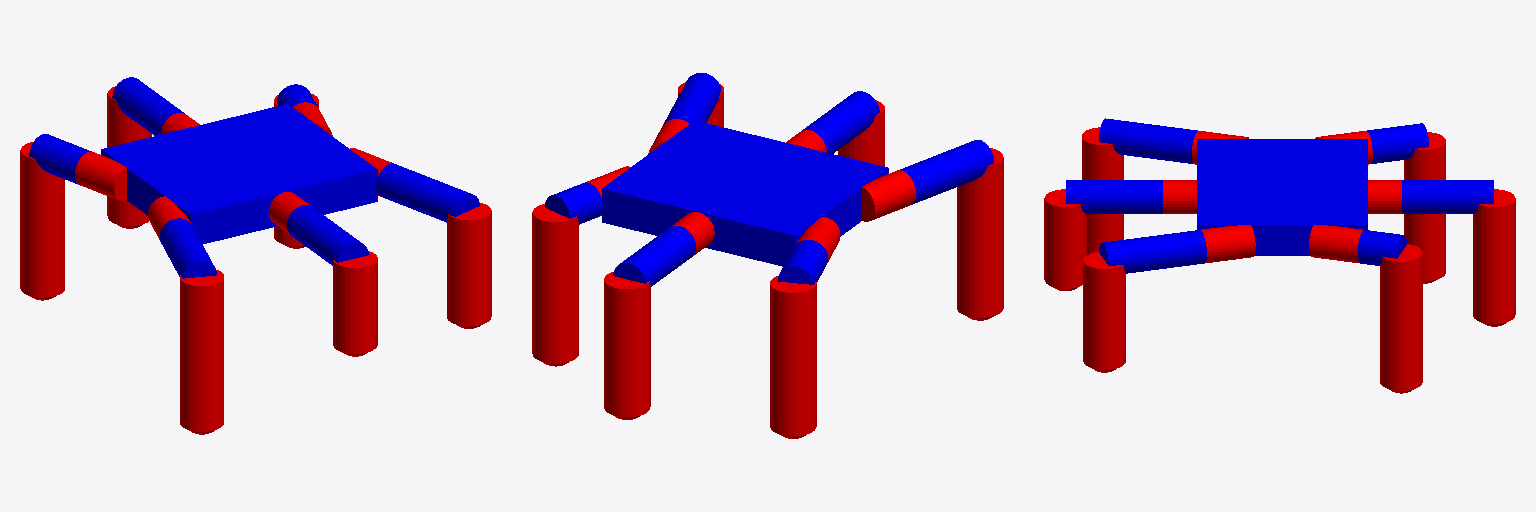
--- Facts derived from the render (not from the file) ---
3 views of the same robot in one strip: view 1: azimuth 30°, elevation 25°; view 2: azimuth 150°, elevation 25°; view 3: azimuth 270°, elevation 25° (orthographic).
Model pexod with 19 links and 18 joints (18 revolute), rooted at base_link, posed every joint at zero.
Visible links, largest first — view 1: base_link, leg_5_3, leg_0_3, leg_3_3, leg_4_3, leg_3_2, leg_4_2, leg_5_2, leg_1_3, leg_1_2, leg_0_1, leg_0_2 (+3 smaller); view 2: base_link, leg_0_3, leg_2_3, leg_5_3, leg_1_3, leg_5_2, leg_1_2, leg_4_2, leg_5_1, leg_3_2, leg_0_2, leg_2_2 (+3 smaller); view 3: base_link, leg_2_3, leg_1_3, leg_3_3, leg_4_3, leg_0_3, leg_3_2, leg_4_2, leg_5_2, leg_1_2, leg_5_3, leg_0_2 (+5 smaller).
Link boxes in pixels (x1,y1,x2,y2): base_link: (101, 104, 377, 243); leg_5_3: (180, 270, 223, 434); leg_0_3: (20, 142, 64, 300); leg_3_3: (447, 202, 491, 328); leg_4_3: (333, 251, 377, 356); leg_3_2: (376, 163, 479, 222); leg_4_2: (287, 205, 368, 265); leg_5_2: (160, 218, 216, 278); leg_1_3: (107, 86, 151, 228); leg_1_2: (112, 77, 184, 135); leg_0_1: (75, 152, 126, 200); leg_0_2: (29, 134, 91, 184); base_link: (602, 121, 888, 266); leg_0_3: (770, 276, 816, 438); leg_2_3: (532, 204, 578, 366); leg_5_3: (957, 148, 1003, 320); leg_1_3: (604, 272, 650, 419); leg_5_2: (897, 140, 993, 204); leg_1_2: (613, 226, 695, 286); leg_4_2: (802, 91, 879, 153); leg_5_1: (862, 170, 915, 221); leg_3_2: (663, 73, 720, 124); leg_0_2: (777, 240, 827, 284); leg_2_2: (545, 182, 602, 224); base_link: (1197, 139, 1367, 255); leg_2_3: (1380, 244, 1422, 393); leg_1_3: (1473, 189, 1515, 326); leg_3_3: (1083, 252, 1125, 372); leg_4_3: (1044, 189, 1086, 290); leg_0_3: (1404, 132, 1445, 283); leg_3_2: (1099, 230, 1206, 273); leg_4_2: (1066, 180, 1162, 213); leg_5_2: (1099, 118, 1197, 163); leg_1_2: (1402, 180, 1493, 213); leg_5_3: (1082, 127, 1123, 254); leg_0_2: (1367, 123, 1428, 163).
Size in the robot's own frame: 0.3946 by 0.5527 by 0.2116 metres.
Geometry: primitives only (box / cylinder / sphere), no mesh files.

The robot description file, URDF, robot "pexod":
<?xml version="1.0" ?>
<!-- =================================================================================== -->
<!-- |    This document was autogenerated by xacro from pexod.xacro                    | -->
<!-- |    EDITING THIS FILE BY HAND IS NOT RECOMMENDED                                 | -->
<!-- =================================================================================== -->
<robot name="pexod" xmlns:xacro="http://www.ros.org/wiki/xacro">
  <!-- <xacro:include filename="$(find pexod_description)/urdf/pexod_control.xacro" /> -->
  <!-- MATERIALS -->
  <material name="Blue">
    <color rgba="0 0 1 1"/>
  </material>
  <material name="Red">
    <color rgba="1 0 0 1"/>
  </material>
  <material name="Green">
    <color rgba="0 1 0 1"/>
  </material>
  <material name="Yellow">
    <color rgba="1 1 0 1"/>
  </material>
  <material name="LightGrey">
    <color rgba="0.6 0.6 0.6 1.0"/>
  </material>
  <!-- END OF MATERIALS -->
  <!-- XACRO MACROS FOR VISUALS AND COLLISIONS -->
  <!-- END OF XACRO MACROS -->
  <!-- TORSO -->
  <link name="base_link">
    <visual>
      <origin rpy="0 0 0" xyz="0 0 0"/>
      <geometry>
        <box size="0.24 0.2 0.04"/>
      </geometry>
      <material name="Blue"/>
    </visual>
    <collision>
      <origin rpy="0 0 0" xyz="0 0 0"/>
      <geometry>
        <box size="0.24 0.2 0.04"/>
      </geometry>
    </collision>
    <inertial>
      <!-- CENTER OF MASS -->
      <origin rpy="0 0 0" xyz="0 0 0"/>
      <mass value="1.031"/>
      <!-- box inertia: 1/12*m(y^2+z^2), ... -->
      <inertia ixx="0.00357413333333" ixy="0" ixz="0" iyy="0.00508626666667" iyz="0" izz="0.00838546666667"/>
    </inertial>
  </link>
  <!-- XACRO MACRO FOR LEGS LINKS/JOINTS -->
  <!-- END OF LEG LINKS/JOINTS -->
  <joint name="body_leg_2" type="revolute">
    <parent link="base_link"/>
    <child link="leg_2_1"/>
    <limit effort="30.0" lower="-1.57079632679" upper="1.57079632679" velocity="7.0"/>
    <origin rpy="0 0 -0.3" xyz="0.11 0.04 0"/>
    <!-- <xacro:if value="${index == 5 or index == 4 or index == 3}">
                <axis xyz="0 0 1"/>
            </xacro:if>
            <xacro:if value="${index == 2 or index == 1 or index == 0}"> -->
    <axis xyz="0 0 1"/>
    <!-- </xacro:if> -->
    <dynamics damping="0.0"/>
  </joint>
  <link name="leg_2_1">
    <visual>
      <origin rpy="1.57079632679 0 0" xyz="0.01 0.03 0"/>
      <geometry>
        <cylinder length="0.06" radius="0.02"/>
      </geometry>
      <material name="Red"/>
    </visual>
    <collision>
      <origin rpy="1.57079632679 0 0" xyz="0.01 0.03 0"/>
      <geometry>
        <box size="0.02 0.02 0.06"/>
      </geometry>
    </collision>
    <inertial>
      <!-- CENTER OF MASS -->
      <origin rpy="1.57079632679 0 0" xyz="0.01 0.03 0"/>
      <mass value="0.02"/>
      <!-- box inertia: 1/12*m(y^2+z^2), ... -->
      <inertia ixx="6.66666666667e-06" ixy="0" ixz="0" iyy="6.66666666667e-06" iyz="0" izz="1.33333333333e-06"/>
    </inertial>
  </link>
  <joint name="leg_2_1_2" type="revolute">
    <parent link="leg_2_1"/>
    <child link="leg_2_2"/>
    <limit effort="30.0" lower="-0.78539816339" upper="0.78539816339" velocity="7.0"/>
    <origin rpy="0 0 0" xyz="0 0.06 0"/>
    <axis xyz="1 0 0"/>
    <dynamics damping="0.0"/>
  </joint>
  <link name="leg_2_2">
    <visual>
      <origin rpy="1.57079632679 0 0" xyz="0.01 0.0241340360195 0"/>
      <geometry>
        <cylinder length="0.0482680720389" radius="0.02"/>
      </geometry>
      <material name="Blue"/>
    </visual>
    <collision>
      <origin rpy="1.57079632679 0 0" xyz="0.01 0.0241340360195 0"/>
      <geometry>
        <box size="0.02 0.02 0.0482680720389"/>
      </geometry>
    </collision>
    <inertial>
      <!-- CENTER OF MASS -->
      <origin rpy="1.57079632679 0 0" xyz="0.01 0.0241340360195 0"/>
      <mass value="0.184"/>
      <!-- box inertia: 1/12*m(y^2+z^2), ... -->
      <inertia ixx="4.18570372681e-05" ixy="0" ixz="0" iyy="4.18570372681e-05" iyz="0" izz="1.22666666667e-05"/>
    </inertial>
  </link>
  <joint name="leg_2_2_3" type="revolute">
    <parent link="leg_2_2"/>
    <child link="leg_2_3"/>
    <limit effort="30.0" lower="-0.78539816339" upper="0.78539816339" velocity="7.0"/>
    <origin rpy="-1.57079632679 0 0" xyz="0 0.0482680720389 0"/>
    <axis xyz="-1 0 0"/>
    <dynamics damping="0.0"/>
  </joint>
  <link name="leg_2_3">
    <visual>
      <origin rpy="1.57079632679 0 0" xyz="0.0125 0.0836386617875 0"/>
      <geometry>
        <cylinder length="0.167277323575" radius="0.025"/>
      </geometry>
      <material name="Red"/>
    </visual>
    <visual>
      <origin rpy="1.57079632679 0 0" xyz="0.0125 0.154777323575 0"/>
      <geometry>
        <sphere radius="0.025"/>
      </geometry>
      <material name="Red"/>
    </visual>
    <collision>
      <origin rpy="1.57079632679 0 0" xyz="0.0125 0.0836386617875 0"/>
      <geometry>
        <box size="0.025 0.025 0.167277323575"/>
      </geometry>
    </collision>
    <collision>
      <origin rpy="1.57079632679 0 0" xyz="0.0125 0.154777323575 0"/>
      <geometry>
        <sphere radius="0.025"/>
      </geometry>
      <material name="Red"/>
    </collision>
    <inertial>
      <!-- CENTER OF MASS -->
      <origin rpy="1.57079632679 0 0" xyz="0.0125 0.0836386617875 0"/>
      <mass value="0.04"/>
      <!-- box inertia: 1/12*m(y^2+z^2), ... -->
      <inertia ixx="9.53556766081e-05" ixy="0" ixz="0" iyy="9.53556766081e-05" iyz="0" izz="4.16666666667e-06"/>
    </inertial>
  </link>
  <joint name="body_leg_3" type="revolute">
    <parent link="base_link"/>
    <child link="leg_3_1"/>
    <limit effort="30.0" lower="-1.57079632679" upper="1.57079632679" velocity="7.0"/>
    <origin rpy="0 0 0.3" xyz="0.11 -0.04 0"/>
    <!-- <xacro:if value="${index == 5 or index == 4 or index == 3}">
                <axis xyz="0 0 1"/>
            </xacro:if>
            <xacro:if value="${index == 2 or index == 1 or index == 0}"> -->
    <axis xyz="0 0 1"/>
    <!-- </xacro:if> -->
    <dynamics damping="0.0"/>
  </joint>
  <link name="leg_3_1">
    <visual>
      <origin rpy="1.57079632679 0 0" xyz="0.01 -0.03 0"/>
      <geometry>
        <cylinder length="0.06" radius="0.02"/>
      </geometry>
      <material name="Red"/>
    </visual>
    <collision>
      <origin rpy="1.57079632679 0 0" xyz="0.01 -0.03 0"/>
      <geometry>
        <box size="0.02 0.02 0.06"/>
      </geometry>
    </collision>
    <inertial>
      <!-- CENTER OF MASS -->
      <origin rpy="1.57079632679 0 0" xyz="0.01 -0.03 0"/>
      <mass value="0.02"/>
      <!-- box inertia: 1/12*m(y^2+z^2), ... -->
      <inertia ixx="6.66666666667e-06" ixy="0" ixz="0" iyy="6.66666666667e-06" iyz="0" izz="1.33333333333e-06"/>
    </inertial>
  </link>
  <joint name="leg_3_1_2" type="revolute">
    <parent link="leg_3_1"/>
    <child link="leg_3_2"/>
    <limit effort="30.0" lower="-0.78539816339" upper="0.78539816339" velocity="7.0"/>
    <origin rpy="0 0 0" xyz="0 -0.06 0"/>
    <axis xyz="-1 0 0"/>
    <dynamics damping="0.0"/>
  </joint>
  <link name="leg_3_2">
    <visual>
      <origin rpy="1.57079632679 0 0" xyz="0.01 -0.060072872516 0"/>
      <geometry>
        <cylinder length="0.120145745032" radius="0.02"/>
      </geometry>
      <material name="Blue"/>
    </visual>
    <collision>
      <origin rpy="1.57079632679 0 0" xyz="0.01 -0.060072872516 0"/>
      <geometry>
        <box size="0.02 0.02 0.120145745032"/>
      </geometry>
    </collision>
    <inertial>
      <!-- CENTER OF MASS -->
      <origin rpy="1.57079632679 0 0" xyz="0.01 -0.060072872516 0"/>
      <mass value="0.184"/>
      <!-- box inertia: 1/12*m(y^2+z^2), ... -->
      <inertia ixx="0.000227470000756" ixy="0" ixz="0" iyy="0.000227470000756" iyz="0" izz="1.22666666667e-05"/>
    </inertial>
  </link>
  <joint name="leg_3_2_3" type="revolute">
    <parent link="leg_3_2"/>
    <child link="leg_3_3"/>
    <limit effort="30.0" lower="-0.78539816339" upper="0.78539816339" velocity="7.0"/>
    <origin rpy="1.57079632679 0 0" xyz="0 -0.120145745032 0"/>
    <axis xyz="1 0 0"/>
    <dynamics damping="0.0"/>
  </joint>
  <link name="leg_3_3">
    <visual>
      <origin rpy="1.57079632679 0 0" xyz="0.0125 -0.0652232850185 0"/>
      <geometry>
        <cylinder length="0.130446570037" radius="0.025"/>
      </geometry>
      <material name="Red"/>
    </visual>
    <visual>
      <origin rpy="1.57079632679 0 0" xyz="0.0125 -0.117946570037 0"/>
      <geometry>
        <sphere radius="0.025"/>
      </geometry>
      <material name="Red"/>
    </visual>
    <collision>
      <origin rpy="1.57079632679 0 0" xyz="0.0125 -0.0652232850185 0"/>
      <geometry>
        <box size="0.025 0.025 0.130446570037"/>
      </geometry>
    </collision>
    <collision>
      <origin rpy="1.57079632679 0 0" xyz="0.0125 -0.117946570037 0"/>
      <geometry>
        <sphere radius="0.025"/>
      </geometry>
      <material name="Red"/>
    </collision>
    <inertial>
      <!-- CENTER OF MASS -->
      <origin rpy="1.57079632679 0 0" xyz="0.0125 -0.0652232850185 0"/>
      <mass value="0.04"/>
      <!-- box inertia: 1/12*m(y^2+z^2), ... -->
      <inertia ixx="5.88043587814e-05" ixy="0" ixz="0" iyy="5.88043587814e-05" iyz="0" izz="4.16666666667e-06"/>
    </inertial>
  </link>
  <joint name="body_leg_0" type="revolute">
    <parent link="base_link"/>
    <child link="leg_0_1"/>
    <limit effort="30.0" lower="-1.57079632679" upper="1.57079632679" velocity="7.0"/>
    <origin rpy="0 0 0.3" xyz="-0.13 0.04 0"/>
    <!-- <xacro:if value="${index == 5 or index == 4 or index == 3}">
                <axis xyz="0 0 1"/>
            </xacro:if>
            <xacro:if value="${index == 2 or index == 1 or index == 0}"> -->
    <axis xyz="0 0 1"/>
    <!-- </xacro:if> -->
    <dynamics damping="0.0"/>
  </joint>
  <link name="leg_0_1">
    <visual>
      <origin rpy="1.57079632679 0 0" xyz="0.01 0.03 0"/>
      <geometry>
        <cylinder length="0.06" radius="0.02"/>
      </geometry>
      <material name="Red"/>
    </visual>
    <collision>
      <origin rpy="1.57079632679 0 0" xyz="0.01 0.03 0"/>
      <geometry>
        <box size="0.02 0.02 0.06"/>
      </geometry>
    </collision>
    <inertial>
      <!-- CENTER OF MASS -->
      <origin rpy="1.57079632679 0 0" xyz="0.01 0.03 0"/>
      <mass value="0.02"/>
      <!-- box inertia: 1/12*m(y^2+z^2), ... -->
      <inertia ixx="6.66666666667e-06" ixy="0" ixz="0" iyy="6.66666666667e-06" iyz="0" izz="1.33333333333e-06"/>
    </inertial>
  </link>
  <joint name="leg_0_1_2" type="revolute">
    <parent link="leg_0_1"/>
    <child link="leg_0_2"/>
    <limit effort="30.0" lower="-0.78539816339" upper="0.78539816339" velocity="7.0"/>
    <origin rpy="0 0 0" xyz="0 0.06 0"/>
    <axis xyz="1 0 0"/>
    <dynamics damping="0.0"/>
  </joint>
  <link name="leg_0_2">
    <visual>
      <origin rpy="1.57079632679 0 0" xyz="0.01 0.0347403849825 0"/>
      <geometry>
        <cylinder length="0.0694807699649" radius="0.02"/>
      </geometry>
      <material name="Blue"/>
    </visual>
    <collision>
      <origin rpy="1.57079632679 0 0" xyz="0.01 0.0347403849825 0"/>
      <geometry>
        <box size="0.02 0.02 0.0694807699649"/>
      </geometry>
    </collision>
    <inertial>
      <!-- CENTER OF MASS -->
      <origin rpy="1.57079632679 0 0" xyz="0.01 0.0347403849825 0"/>
      <mass value="0.184"/>
      <!-- box inertia: 1/12*m(y^2+z^2), ... -->
      <inertia ixx="8.0156186722e-05" ixy="0" ixz="0" iyy="8.0156186722e-05" iyz="0" izz="1.22666666667e-05"/>
    </inertial>
  </link>
  <joint name="leg_0_2_3" type="revolute">
    <parent link="leg_0_2"/>
    <child link="leg_0_3"/>
    <limit effort="30.0" lower="-0.78539816339" upper="0.78539816339" velocity="7.0"/>
    <origin rpy="-1.57079632679 0 0" xyz="0 0.0694807699649 0"/>
    <axis xyz="-1 0 0"/>
    <dynamics damping="0.0"/>
  </joint>
  <link name="leg_0_3">
    <visual>
      <origin rpy="1.57079632679 0 0" xyz="0.0125 0.084879500048 0"/>
      <geometry>
        <cylinder length="0.169759000096" radius="0.025"/>
      </geometry>
      <material name="Red"/>
    </visual>
    <visual>
      <origin rpy="1.57079632679 0 0" xyz="0.0125 0.157259000096 0"/>
      <geometry>
        <sphere radius="0.025"/>
      </geometry>
      <material name="Red"/>
    </visual>
    <collision>
      <origin rpy="1.57079632679 0 0" xyz="0.0125 0.084879500048 0"/>
      <geometry>
        <box size="0.025 0.025 0.169759000096"/>
      </geometry>
    </collision>
    <collision>
      <origin rpy="1.57079632679 0 0" xyz="0.0125 0.157259000096 0"/>
      <geometry>
        <sphere radius="0.025"/>
      </geometry>
      <material name="Red"/>
    </collision>
    <inertial>
      <!-- CENTER OF MASS -->
      <origin rpy="1.57079632679 0 0" xyz="0.0125 0.084879500048 0"/>
      <mass value="0.04"/>
      <!-- box inertia: 1/12*m(y^2+z^2), ... -->
      <inertia ixx="9.81437270453e-05" ixy="0" ixz="0" iyy="9.81437270453e-05" iyz="0" izz="4.16666666667e-06"/>
    </inertial>
  </link>
  <joint name="body_leg_5" type="revolute">
    <parent link="base_link"/>
    <child link="leg_5_1"/>
    <limit effort="30.0" lower="-1.57079632679" upper="1.57079632679" velocity="7.0"/>
    <origin rpy="0 0 -0.3" xyz="-0.13 -0.04 0"/>
    <!-- <xacro:if value="${index == 5 or index == 4 or index == 3}">
                <axis xyz="0 0 1"/>
            </xacro:if>
            <xacro:if value="${index == 2 or index == 1 or index == 0}"> -->
    <axis xyz="0 0 1"/>
    <!-- </xacro:if> -->
    <dynamics damping="0.0"/>
  </joint>
  <link name="leg_5_1">
    <visual>
      <origin rpy="1.57079632679 0 0" xyz="0.01 -0.03 0"/>
      <geometry>
        <cylinder length="0.06" radius="0.02"/>
      </geometry>
      <material name="Red"/>
    </visual>
    <collision>
      <origin rpy="1.57079632679 0 0" xyz="0.01 -0.03 0"/>
      <geometry>
        <box size="0.02 0.02 0.06"/>
      </geometry>
    </collision>
    <inertial>
      <!-- CENTER OF MASS -->
      <origin rpy="1.57079632679 0 0" xyz="0.01 -0.03 0"/>
      <mass value="0.02"/>
      <!-- box inertia: 1/12*m(y^2+z^2), ... -->
      <inertia ixx="6.66666666667e-06" ixy="0" ixz="0" iyy="6.66666666667e-06" iyz="0" izz="1.33333333333e-06"/>
    </inertial>
  </link>
  <joint name="leg_5_1_2" type="revolute">
    <parent link="leg_5_1"/>
    <child link="leg_5_2"/>
    <limit effort="30.0" lower="-0.78539816339" upper="0.78539816339" velocity="7.0"/>
    <origin rpy="0 0 0" xyz="0 -0.06 0"/>
    <axis xyz="-1 0 0"/>
    <dynamics damping="0.0"/>
  </joint>
  <link name="leg_5_2">
    <visual>
      <origin rpy="1.57079632679 0 0" xyz="0.01 -0.0572330110115 0"/>
      <geometry>
        <cylinder length="0.114466022023" radius="0.02"/>
      </geometry>
      <material name="Blue"/>
    </visual>
    <collision>
      <origin rpy="1.57079632679 0 0" xyz="0.01 -0.0572330110115 0"/>
      <geometry>
        <box size="0.02 0.02 0.114466022023"/>
      </geometry>
    </collision>
    <inertial>
      <!-- CENTER OF MASS -->
      <origin rpy="1.57079632679 0 0" xyz="0.01 -0.0572330110115 0"/>
      <mass value="0.184"/>
      <!-- box inertia: 1/12*m(y^2+z^2), ... -->
      <inertia ixx="0.000207037876366" ixy="0" ixz="0" iyy="0.000207037876366" iyz="0" izz="1.22666666667e-05"/>
    </inertial>
  </link>
  <joint name="leg_5_2_3" type="revolute">
    <parent link="leg_5_2"/>
    <child link="leg_5_3"/>
    <limit effort="30.0" lower="-0.78539816339" upper="0.78539816339" velocity="7.0"/>
    <origin rpy="1.57079632679 0 0" xyz="0 -0.114466022023 0"/>
    <axis xyz="1 0 0"/>
    <dynamics damping="0.0"/>
  </joint>
  <link name="leg_5_3">
    <visual>
      <origin rpy="1.57079632679 0 0" xyz="0.0125 -0.0895674077025 0"/>
      <geometry>
        <cylinder length="0.179134815405" radius="0.025"/>
      </geometry>
      <material name="Red"/>
    </visual>
    <visual>
      <origin rpy="1.57079632679 0 0" xyz="0.0125 -0.166634815405 0"/>
      <geometry>
        <sphere radius="0.025"/>
      </geometry>
      <material name="Red"/>
    </visual>
    <collision>
      <origin rpy="1.57079632679 0 0" xyz="0.0125 -0.0895674077025 0"/>
      <geometry>
        <box size="0.025 0.025 0.179134815405"/>
      </geometry>
    </collision>
    <collision>
      <origin rpy="1.57079632679 0 0" xyz="0.0125 -0.166634815405 0"/>
      <geometry>
        <sphere radius="0.025"/>
      </geometry>
      <material name="Red"/>
    </collision>
    <inertial>
      <!-- CENTER OF MASS -->
      <origin rpy="1.57079632679 0 0" xyz="0.0125 -0.0895674077025 0"/>
      <mass value="0.04"/>
      <!-- box inertia: 1/12*m(y^2+z^2), ... -->
      <inertia ixx="0.000109047606967" ixy="0" ixz="0" iyy="0.000109047606967" iyz="0" izz="4.16666666667e-06"/>
    </inertial>
  </link>
  <joint name="body_leg_1" type="revolute">
    <parent link="base_link"/>
    <child link="leg_1_1"/>
    <limit effort="30.0" lower="-1.57079632679" upper="1.57079632679" velocity="7.0"/>
    <origin rpy="0 0 0" xyz="-0.01 0.08 0"/>
    <!-- <xacro:if value="${index == 5 or index == 4 or index == 3}">
                <axis xyz="0 0 1"/>
            </xacro:if>
            <xacro:if value="${index == 2 or index == 1 or index == 0}"> -->
    <axis xyz="0 0 1"/>
    <!-- </xacro:if> -->
    <dynamics damping="0.0"/>
  </joint>
  <link name="leg_1_1">
    <visual>
      <origin rpy="1.57079632679 0 0" xyz="0.01 0.03 0"/>
      <geometry>
        <cylinder length="0.06" radius="0.02"/>
      </geometry>
      <material name="Red"/>
    </visual>
    <collision>
      <origin rpy="1.57079632679 0 0" xyz="0.01 0.03 0"/>
      <geometry>
        <box size="0.02 0.02 0.06"/>
      </geometry>
    </collision>
    <inertial>
      <!-- CENTER OF MASS -->
      <origin rpy="1.57079632679 0 0" xyz="0.01 0.03 0"/>
      <mass value="0.02"/>
      <!-- box inertia: 1/12*m(y^2+z^2), ... -->
      <inertia ixx="6.66666666667e-06" ixy="0" ixz="0" iyy="6.66666666667e-06" iyz="0" izz="1.33333333333e-06"/>
    </inertial>
  </link>
  <joint name="leg_1_1_2" type="revolute">
    <parent link="leg_1_1"/>
    <child link="leg_1_2"/>
    <limit effort="30.0" lower="-0.78539816339" upper="0.78539816339" velocity="7.0"/>
    <origin rpy="0 0 0" xyz="0 0.06 0"/>
    <axis xyz="1 0 0"/>
    <dynamics damping="0.0"/>
  </joint>
  <link name="leg_1_2">
    <visual>
      <origin rpy="1.57079632679 0 0" xyz="0.01 0.0543251208315 0"/>
      <geometry>
        <cylinder length="0.108650241663" radius="0.02"/>
      </geometry>
      <material name="Blue"/>
    </visual>
    <collision>
      <origin rpy="1.57079632679 0 0" xyz="0.01 0.0543251208315 0"/>
      <geometry>
        <box size="0.02 0.02 0.108650241663"/>
      </geometry>
    </collision>
    <inertial>
      <!-- CENTER OF MASS -->
      <origin rpy="1.57079632679 0 0" xyz="0.01 0.0543251208315 0"/>
      <mass value="0.184"/>
      <!-- box inertia: 1/12*m(y^2+z^2), ... -->
      <inertia ixx="0.000187141416873" ixy="0" ixz="0" iyy="0.000187141416873" iyz="0" izz="1.22666666667e-05"/>
    </inertial>
  </link>
  <joint name="leg_1_2_3" type="revolute">
    <parent link="leg_1_2"/>
    <child link="leg_1_3"/>
    <limit effort="30.0" lower="-0.78539816339" upper="0.78539816339" velocity="7.0"/>
    <origin rpy="-1.57079632679 0 0" xyz="0 0.108650241663 0"/>
    <axis xyz="-1 0 0"/>
    <dynamics damping="0.0"/>
  </joint>
  <link name="leg_1_3">
    <visual>
      <origin rpy="1.57079632679 0 0" xyz="0.0125 0.075749552747 0"/>
      <geometry>
        <cylinder length="0.151499105494" radius="0.025"/>
      </geometry>
      <material name="Red"/>
    </visual>
    <visual>
      <origin rpy="1.57079632679 0 0" xyz="0.0125 0.138999105494 0"/>
      <geometry>
        <sphere radius="0.025"/>
      </geometry>
      <material name="Red"/>
    </visual>
    <collision>
      <origin rpy="1.57079632679 0 0" xyz="0.0125 0.075749552747 0"/>
      <geometry>
        <box size="0.025 0.025 0.151499105494"/>
      </geometry>
    </collision>
    <collision>
      <origin rpy="1.57079632679 0 0" xyz="0.0125 0.138999105494 0"/>
      <geometry>
        <sphere radius="0.025"/>
      </geometry>
      <material name="Red"/>
    </collision>
    <inertial>
      <!-- CENTER OF MASS -->
      <origin rpy="1.57079632679 0 0" xyz="0.0125 0.075749552747 0"/>
      <mass value="0.04"/>
      <!-- box inertia: 1/12*m(y^2+z^2), ... -->
      <inertia ixx="7.85899298849e-05" ixy="0" ixz="0" iyy="7.85899298849e-05" iyz="0" izz="4.16666666667e-06"/>
    </inertial>
  </link>
  <joint name="body_leg_4" type="revolute">
    <parent link="base_link"/>
    <child link="leg_4_1"/>
    <limit effort="30.0" lower="-1.57079632679" upper="1.57079632679" velocity="7.0"/>
    <origin rpy="0 0 0" xyz="-0.01 -0.08 0"/>
    <!-- <xacro:if value="${index == 5 or index == 4 or index == 3}">
                <axis xyz="0 0 1"/>
            </xacro:if>
            <xacro:if value="${index == 2 or index == 1 or index == 0}"> -->
    <axis xyz="0 0 1"/>
    <!-- </xacro:if> -->
    <dynamics damping="0.0"/>
  </joint>
  <link name="leg_4_1">
    <visual>
      <origin rpy="1.57079632679 0 0" xyz="0.01 -0.03 0"/>
      <geometry>
        <cylinder length="0.06" radius="0.02"/>
      </geometry>
      <material name="Red"/>
    </visual>
    <collision>
      <origin rpy="1.57079632679 0 0" xyz="0.01 -0.03 0"/>
      <geometry>
        <box size="0.02 0.02 0.06"/>
      </geometry>
    </collision>
    <inertial>
      <!-- CENTER OF MASS -->
      <origin rpy="1.57079632679 0 0" xyz="0.01 -0.03 0"/>
      <mass value="0.02"/>
      <!-- box inertia: 1/12*m(y^2+z^2), ... -->
      <inertia ixx="6.66666666667e-06" ixy="0" ixz="0" iyy="6.66666666667e-06" iyz="0" izz="1.33333333333e-06"/>
    </inertial>
  </link>
  <joint name="leg_4_1_2" type="revolute">
    <parent link="leg_4_1"/>
    <child link="leg_4_2"/>
    <limit effort="30.0" lower="-0.78539816339" upper="0.78539816339" velocity="7.0"/>
    <origin rpy="0 0 0" xyz="0 -0.06 0"/>
    <axis xyz="-1 0 0"/>
    <dynamics damping="0.0"/>
  </joint>
  <link name="leg_4_2">
    <visual>
      <origin rpy="1.57079632679 0 0" xyz="0.01 -0.057001646195 0"/>
      <geometry>
        <cylinder length="0.11400329239" radius="0.02"/>
      </geometry>
      <material name="Blue"/>
    </visual>
    <collision>
      <origin rpy="1.57079632679 0 0" xyz="0.01 -0.057001646195 0"/>
      <geometry>
        <box size="0.02 0.02 0.11400329239"/>
      </geometry>
    </collision>
    <inertial>
      <!-- CENTER OF MASS -->
      <origin rpy="1.57079632679 0 0" xyz="0.01 -0.057001646195 0"/>
      <mass value="0.184"/>
      <!-- box inertia: 1/12*m(y^2+z^2), ... -->
      <inertia ixx="0.000205416843695" ixy="0" ixz="0" iyy="0.000205416843695" iyz="0" izz="1.22666666667e-05"/>
    </inertial>
  </link>
  <joint name="leg_4_2_3" type="revolute">
    <parent link="leg_4_2"/>
    <child link="leg_4_3"/>
    <limit effort="30.0" lower="-0.78539816339" upper="0.78539816339" velocity="7.0"/>
    <origin rpy="1.57079632679 0 0" xyz="0 -0.11400329239 0"/>
    <axis xyz="1 0 0"/>
    <dynamics damping="0.0"/>
  </joint>
  <link name="leg_4_3">
    <visual>
      <origin rpy="1.57079632679 0 0" xyz="0.0125 -0.052868803137 0"/>
      <geometry>
        <cylinder length="0.105737606274" radius="0.025"/>
      </geometry>
      <material name="Red"/>
    </visual>
    <visual>
      <origin rpy="1.57079632679 0 0" xyz="0.0125 -0.093237606274 0"/>
      <geometry>
        <sphere radius="0.025"/>
      </geometry>
      <material name="Red"/>
    </visual>
    <collision>
      <origin rpy="1.57079632679 0 0" xyz="0.0125 -0.052868803137 0"/>
      <geometry>
        <box size="0.025 0.025 0.105737606274"/>
      </geometry>
    </collision>
    <collision>
      <origin rpy="1.57079632679 0 0" xyz="0.0125 -0.093237606274 0"/>
      <geometry>
        <sphere radius="0.025"/>
      </geometry>
      <material name="Red"/>
    </collision>
    <inertial>
      <!-- CENTER OF MASS -->
      <origin rpy="1.57079632679 0 0" xyz="0.0125 -0.052868803137 0"/>
      <mass value="0.04"/>
      <!-- box inertia: 1/12*m(y^2+z^2), ... -->
      <inertia ixx="3.93514712685e-05" ixy="0" ixz="0" iyy="3.93514712685e-05" iyz="0" izz="4.16666666667e-06"/>
    </inertial>
  </link>
  <!-- END OF LEG LINKS/JOINTS -->
</robot>
